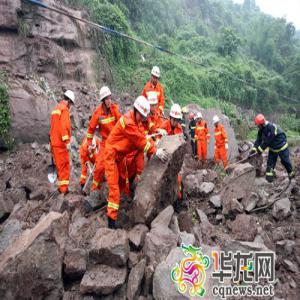red: (255, 115, 265, 132), (190, 113, 195, 123)
white: (133, 95, 151, 124), (100, 85, 113, 109), (62, 88, 76, 110), (171, 106, 182, 129), (149, 93, 159, 115), (152, 67, 161, 84), (214, 115, 220, 128), (197, 113, 203, 124)
yellow: (182, 108, 188, 118)
